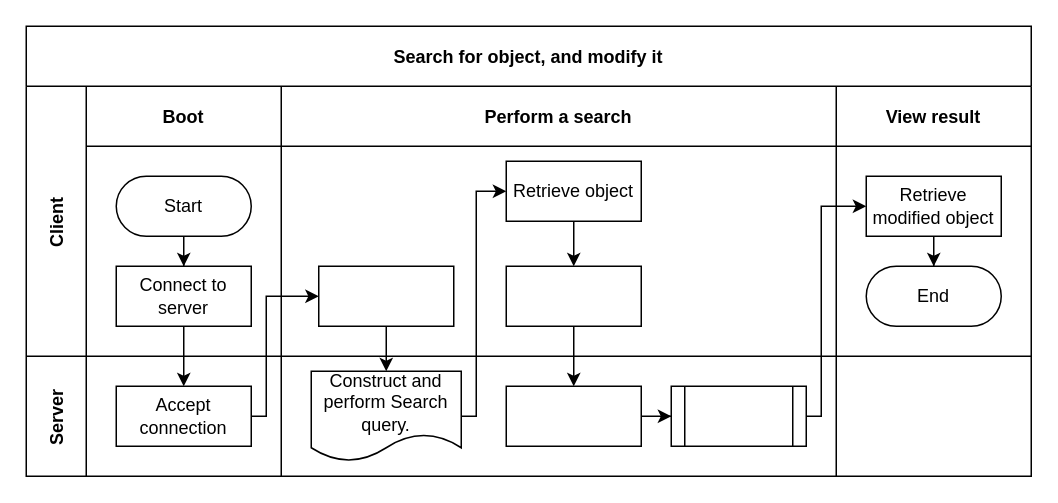
Some shapes in this 1058 by 503 pixel diagram are drawn without their labels. Each missing label, with the centre of its shape:
Modify object: point 573,295
Request search: point 385,295
UPDATE object: point 573,415
Write update into SQLite: point 738,415
